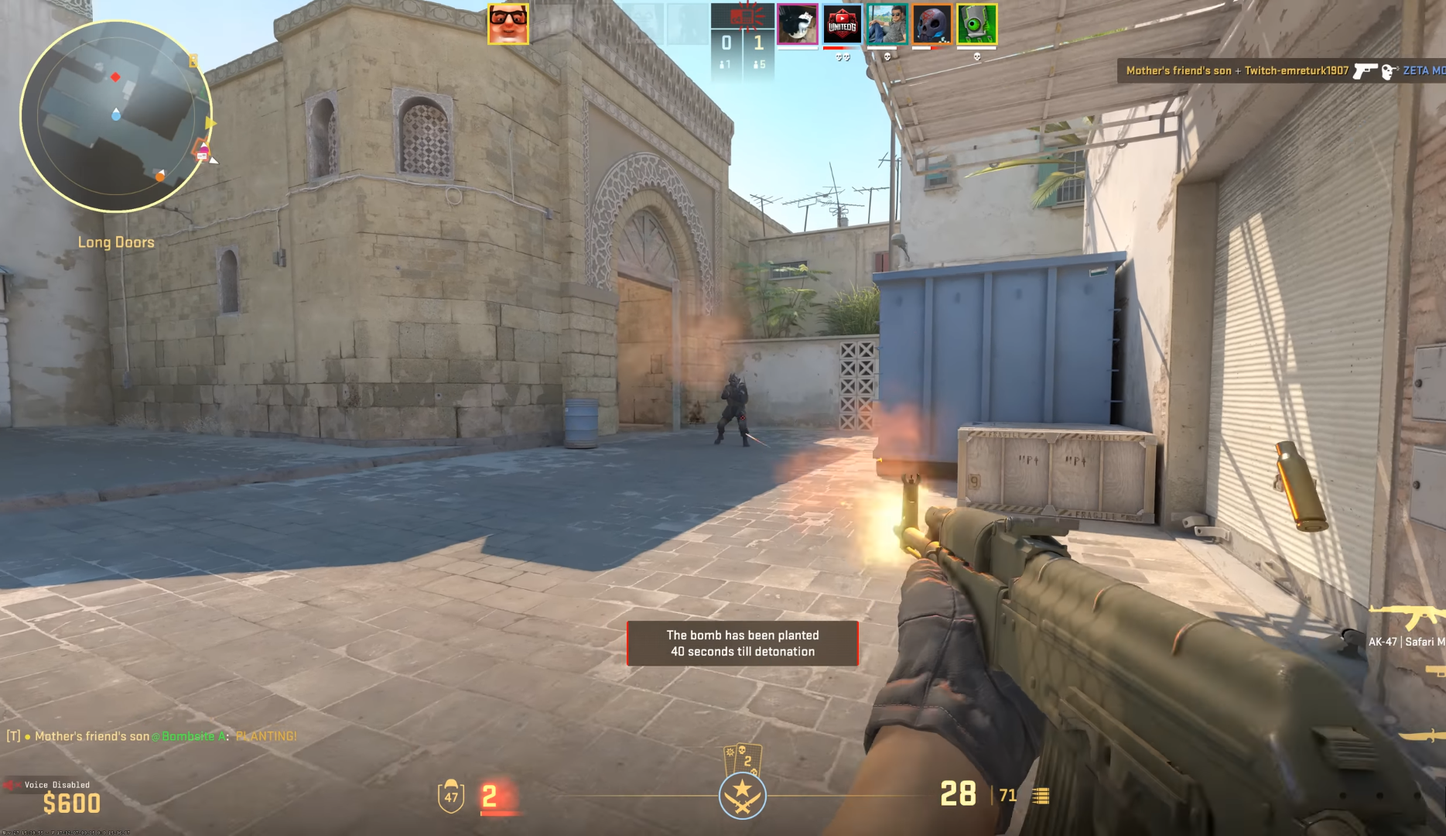CT: (714, 369, 749, 444)
